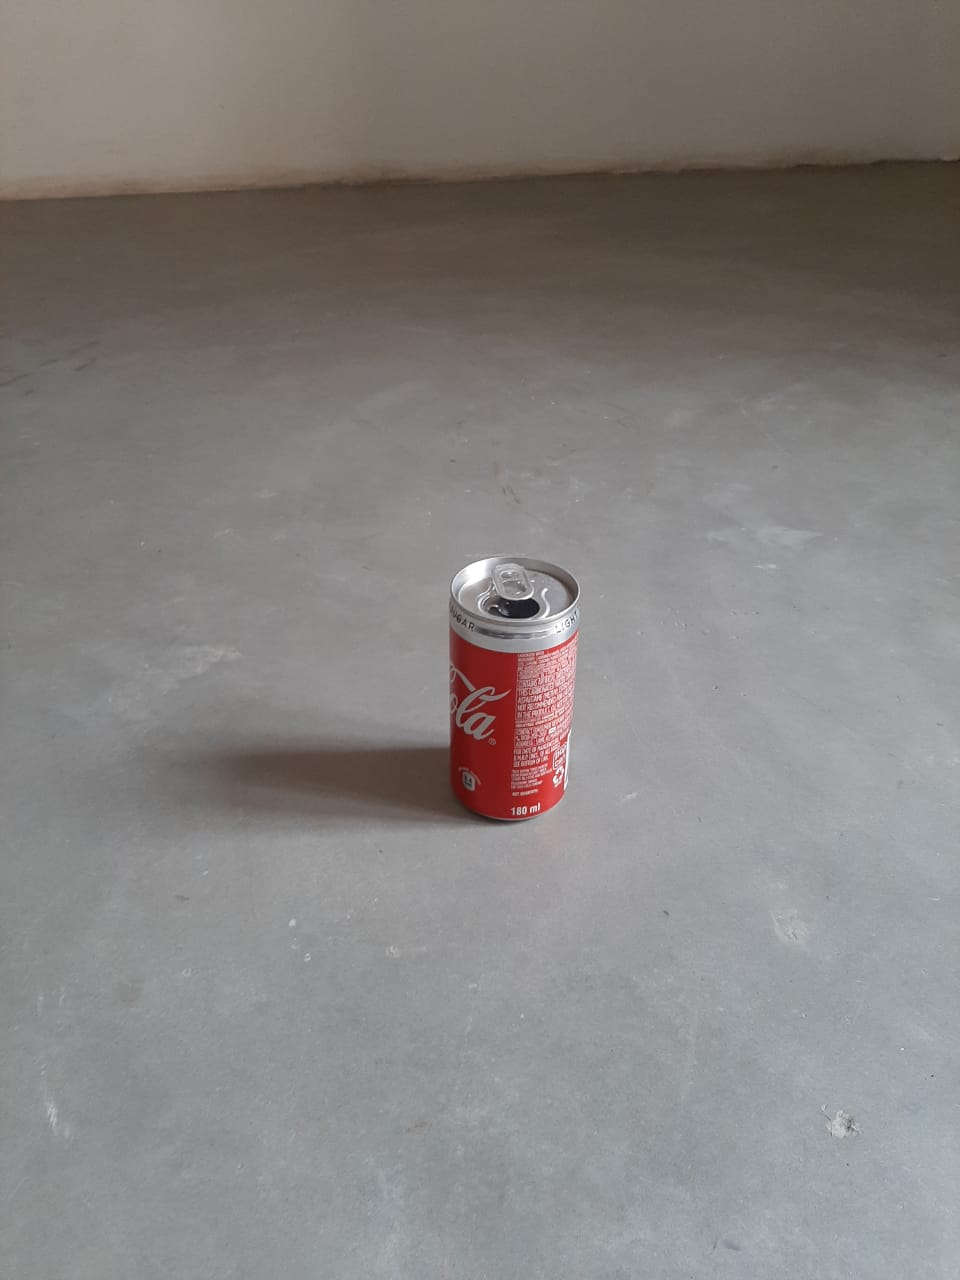Can: (448, 554, 580, 818)
